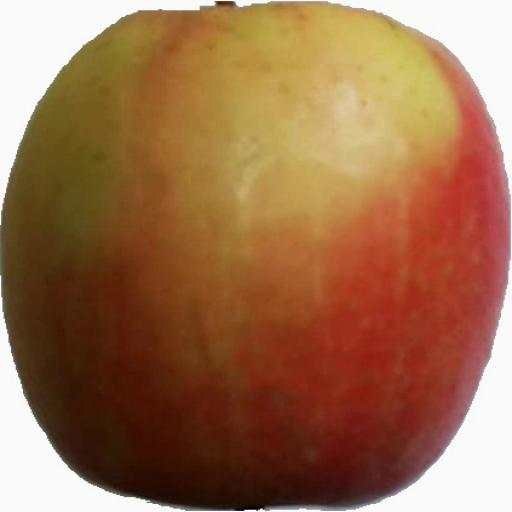apple-ripe: (0, 13, 494, 512)
